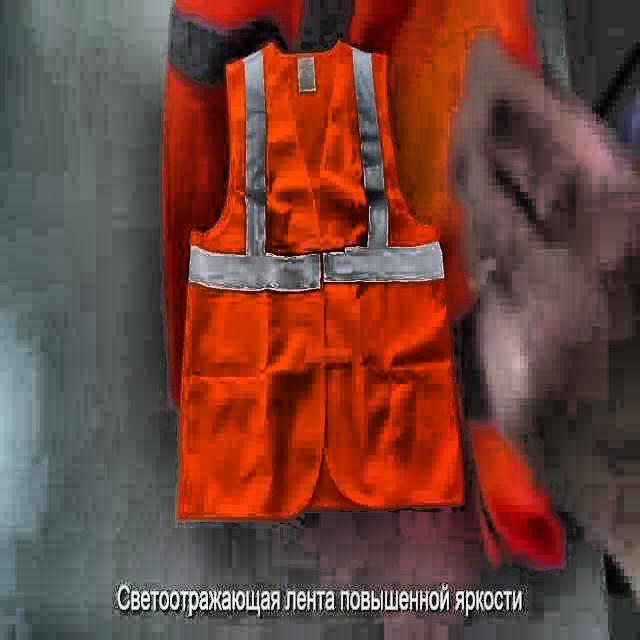safety_jacket: (175, 41, 465, 525)
